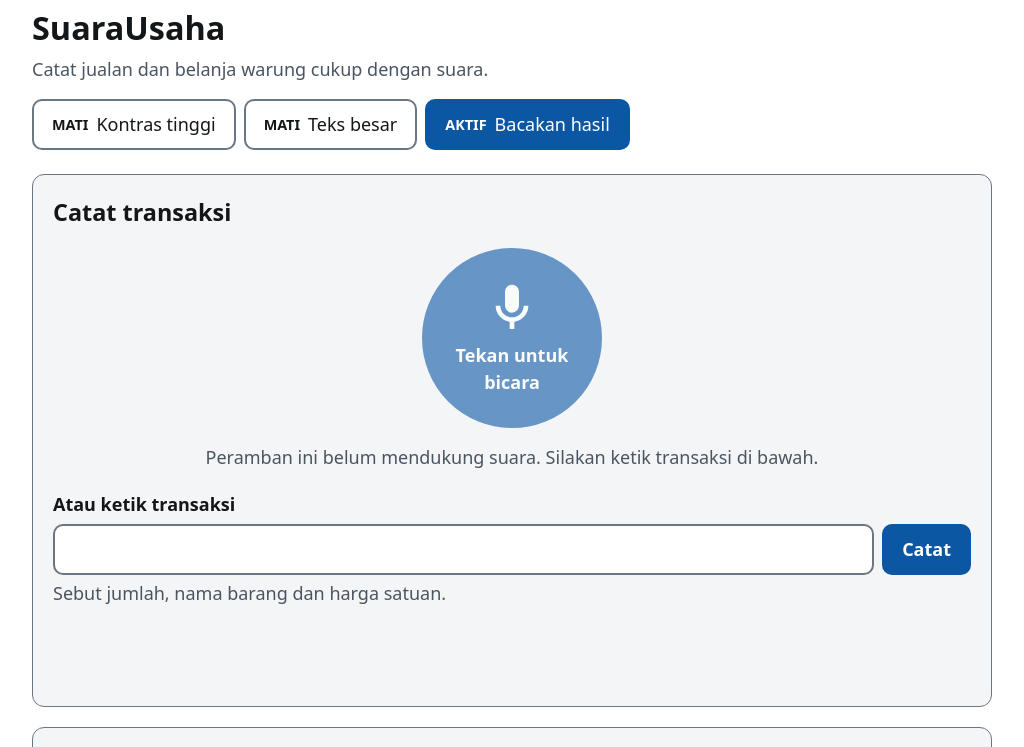
recording by text and keyboard › announces the confirmation in a polite live region and returns focus to the input
Type "jual tiga kopi lima ribu" into the field labelled "Atau ketik transaksi".
click(464, 550); type("jual tiga kopi lima ribu")  # box [53,524,874,575]
Then press Enter
(page scrolled)
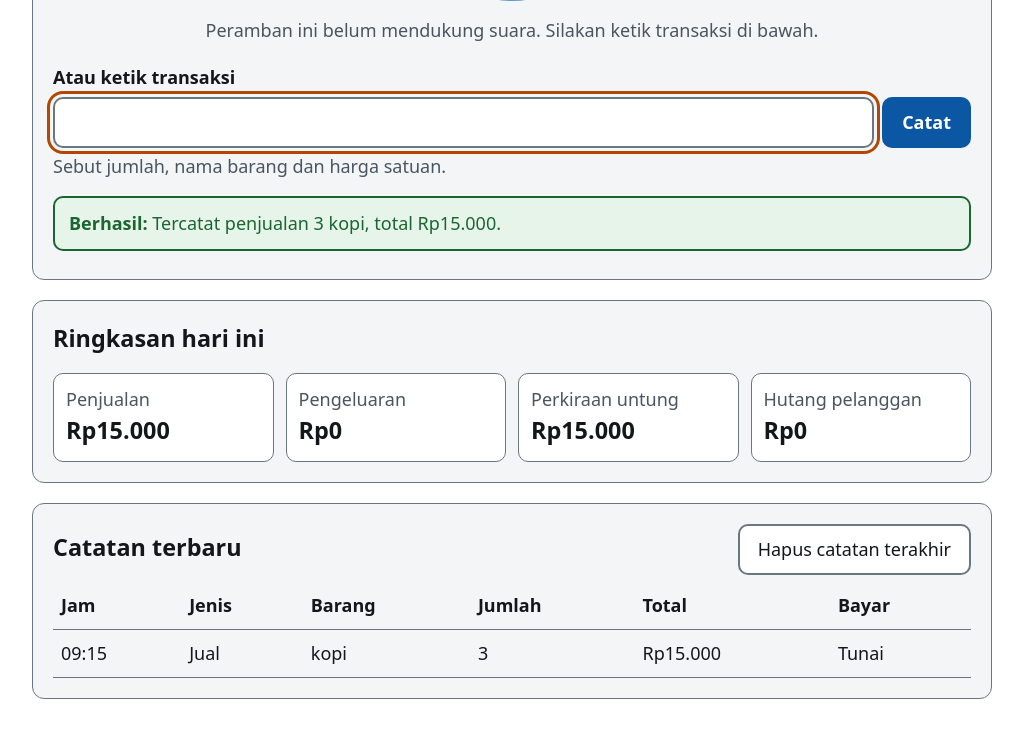
Expected: the message with test id "live-region" reads "Berhasil: Tercatat penjualan 3 kopi, total Rp15.000.", [53,196,971,251]
Expected: the text "Jual" is shown, [181,630,303,678]
Expected: the text "Rp15.000" is shown, [634,630,830,678]
